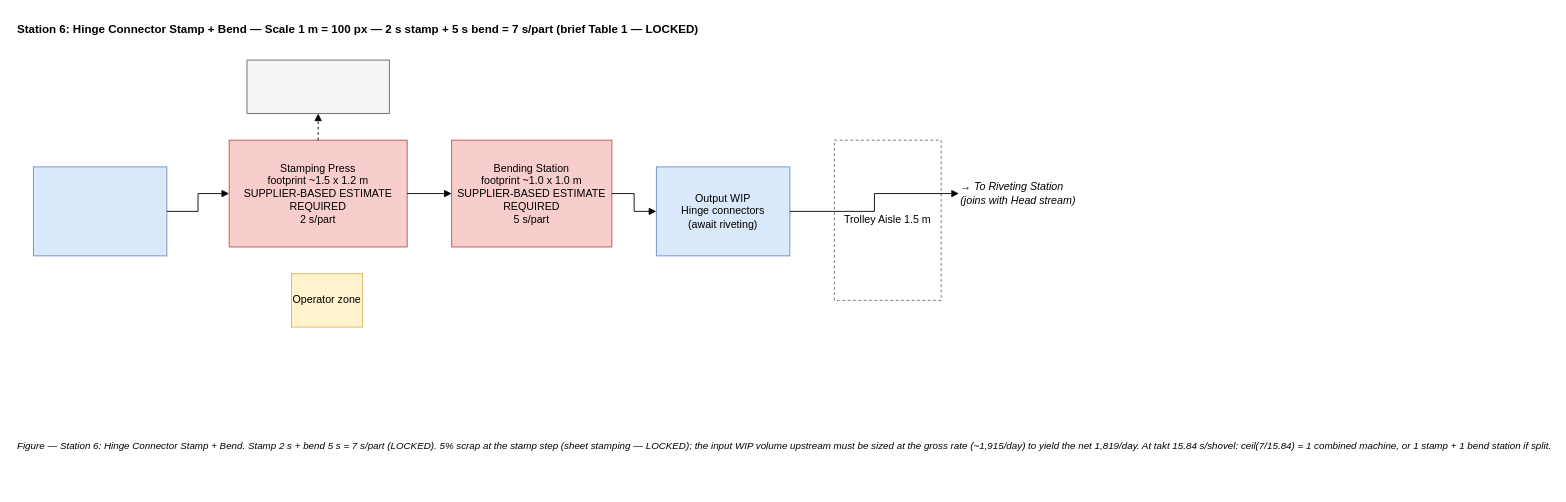
The diagram is 1566 pixels wide and 502 high, and some of its shapes have lost their labels. The shapes that lost their labels are listed below. From the top down, each one's centre as x and y in pixels, then its label:
At pixel 317 86: "Scrap Bin 5% scrap — sheet stamping — LOCKED".
At pixel 99 211: "Input WIP 2.5 mm sheet (from Sheet RM Racking)".
